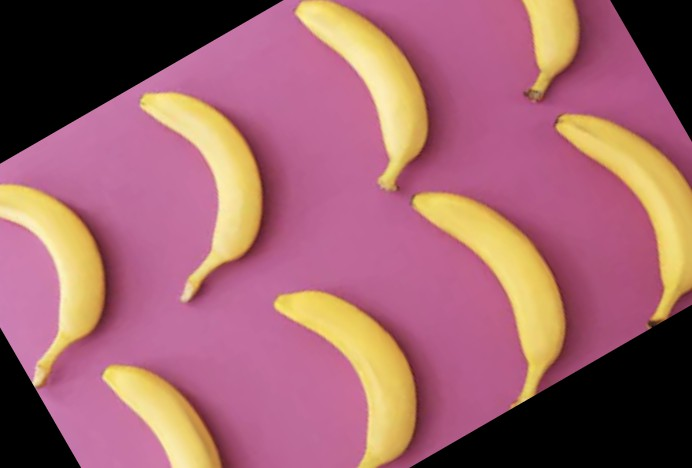fresh_banana: (410, 193, 566, 409), (555, 110, 692, 325), (137, 92, 262, 302), (275, 289, 416, 468), (294, 1, 426, 190), (1, 183, 105, 387), (102, 365, 221, 468), (521, 1, 578, 103)
